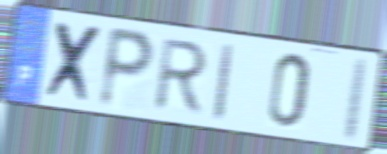0: (266, 50, 313, 132)
I: (339, 54, 372, 145), (210, 40, 236, 125)
P: (95, 23, 158, 113)
R: (150, 36, 212, 117)
X: (42, 18, 107, 108)
